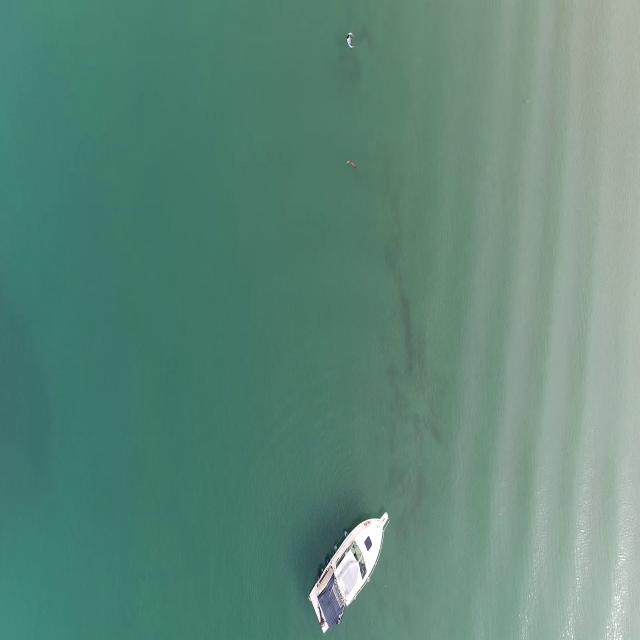boat: (310, 510, 389, 629)
person: (346, 31, 356, 52)
wood: (346, 157, 358, 171)
